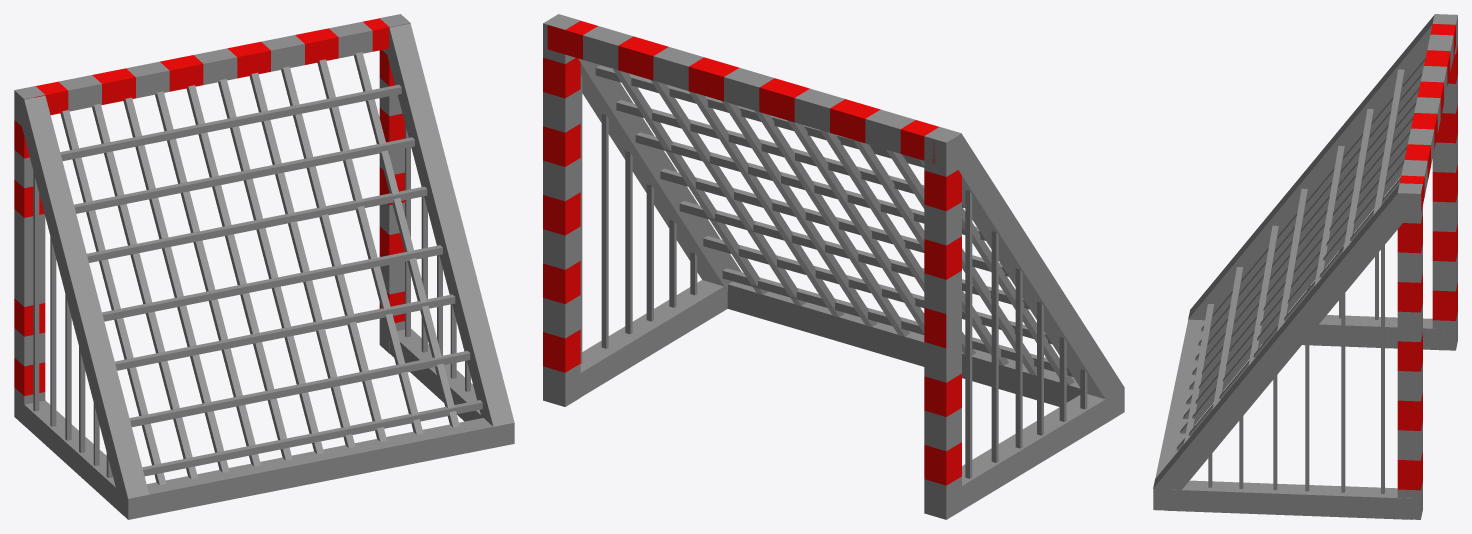
The model's file is Soccer goal.obj.
3 renders of one model, left to right at view 1: azimuth 30°, elevation 25°; view 2: azimuth 150°, elevation 25°; view 3: azimuth 270°, elevation 25°, orthographic. The views are drawn at different scales.
Parts seen in each view (by area): view 1: Box004, Box003, Box006, Box005, Box001, Box002, Box038, Box035, Box033, Box032, Box036, Box034 (+19 smaller); view 2: Box005, Box001, Box002, Box004, Box006, Box003, Box007, Box008, Box026, Box027, Box028, Box029 (+23 smaller); view 3: Box003, Box002, Box007, Box004, Box001, Box005, Box008, Box006, Box028, Box027, Box026, Box025 (+16 smaller).
Boxes of the visible parts, <box> form: Box004: <box>16,95,149,503</box>; Box003: <box>386,23,514,426</box>; Box006: <box>122,418,514,519</box>; Box005: <box>34,18,389,114</box>; Box001: <box>14,86,45,425</box>; Box002: <box>379,14,410,353</box>; Box038: <box>60,84,401,160</box>; Box035: <box>74,137,414,213</box>; Box033: <box>102,245,442,321</box>; Box032: <box>129,351,470,427</box>; Box036: <box>87,186,427,262</box>; Box034: <box>115,294,455,370</box>; Box005: <box>547,21,938,163</box>; Box001: <box>924,127,961,519</box>; Box002: <box>543,14,580,406</box>; Box004: <box>949,134,1124,409</box>; Box006: <box>727,281,1124,417</box>; Box003: <box>578,58,741,291</box>; Box007: <box>580,280,727,396</box>; Box008: <box>962,394,1115,510</box>; Box026: <box>754,110,909,336</box>; Box027: <box>721,101,877,326</box>; Box028: <box>688,91,844,316</box>; Box029: <box>651,80,806,305</box>; Box003: <box>1153,184,1415,498</box>; Box002: <box>1397,183,1422,519</box>; Box007: <box>1167,480,1411,519</box>; Box004: <box>1188,15,1434,320</box>; Box001: <box>1432,14,1457,350</box>; Box005: <box>1399,24,1455,211</box>; Box008: <box>1263,315,1446,350</box>; Box006: <box>1153,319,1204,510</box>; Box028: <box>1180,160,1404,433</box>; Box027: <box>1183,146,1407,418</box>; Box026: <box>1186,131,1410,404</box>; Box025: <box>1189,117,1413,389</box>.
Size of the model in its own units: 672742 by 541017 by 458577.
